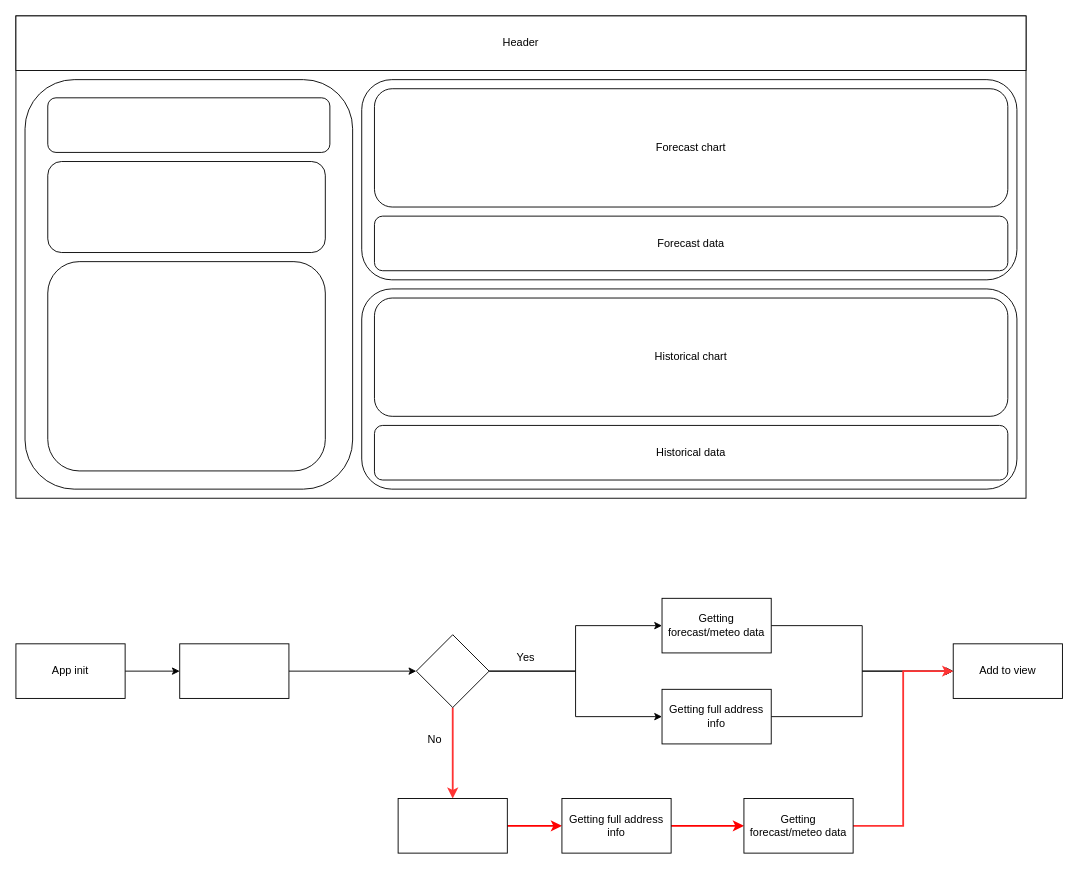
Image size: 1078x869. Some labels were removed from this diagram. Here are the shapes that lost their labels. From the top down, the centre of each, then its label:
At [188,124]: "Current location / location switch".
At [186,207]: "Image showing weather".
At [186,366]: "Detailed weather data".
At [234,670]: "trying to get user coordinates from navigator api".
At [452,671]: "Success?".
At [452,825]: "Notification stating that we will use ip location, which is less accurate".
